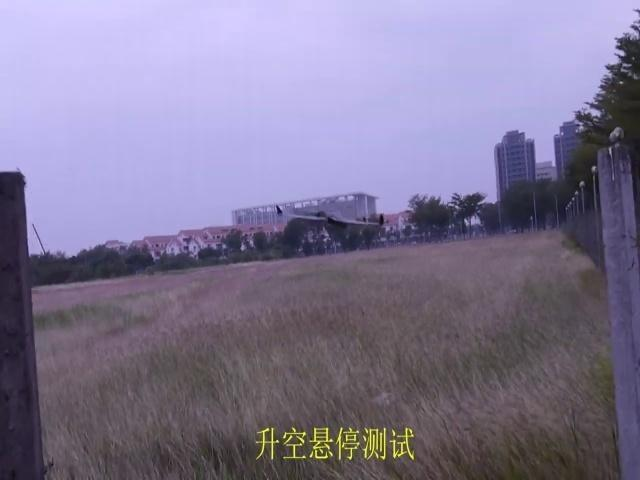Airplane: (276, 204, 385, 233)
